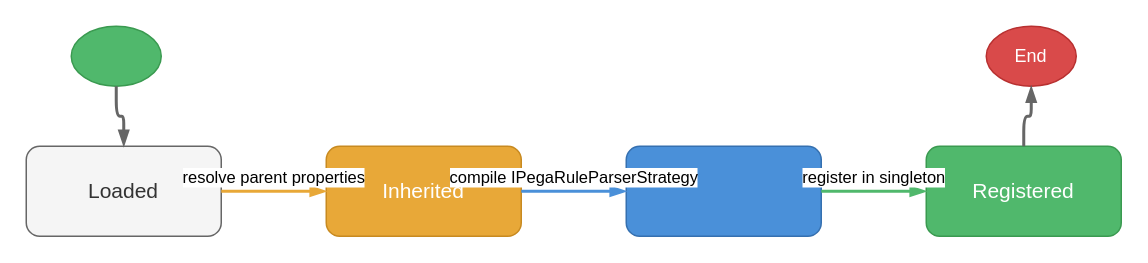
Image size: 1148x263. Some labels were removed from this diagram. Here are the shapes that lost their labels. From the top down, the centre of each, then its label:
the point at 115,55: Start
the point at 723,190: Compiled
